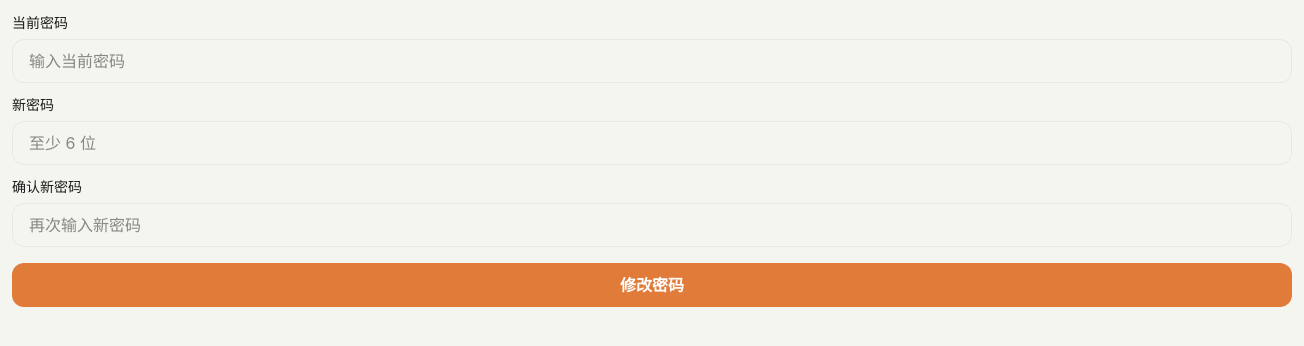
Test: ChangePasswordSection - 当前密码错误提示 › 当前密码错误时，在输入框下方显示红色提示而非 Toast
Type "old-pass" into the password field with placeholder "输入当前密码" at (652, 61), box [12, 39, 1292, 83]
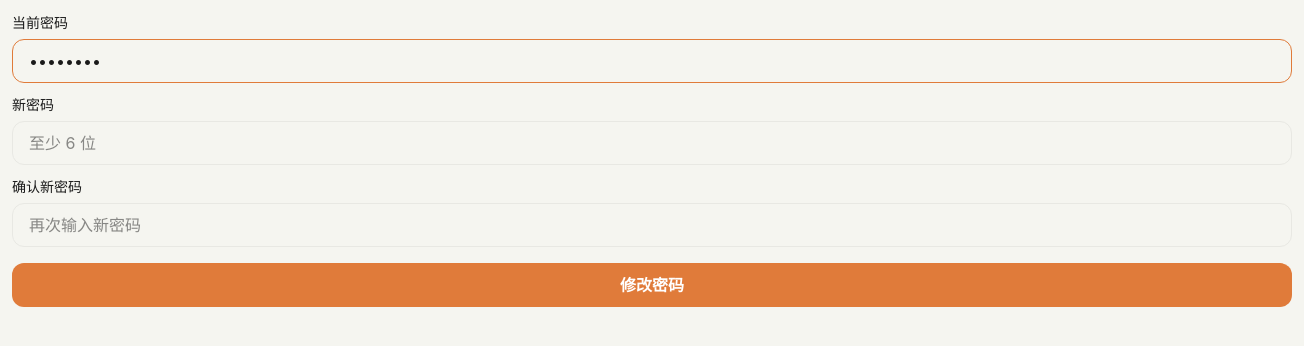
Type "new-pass-1" into the password field with placeholder "至少 6 位" at (652, 143), box [12, 121, 1292, 165]
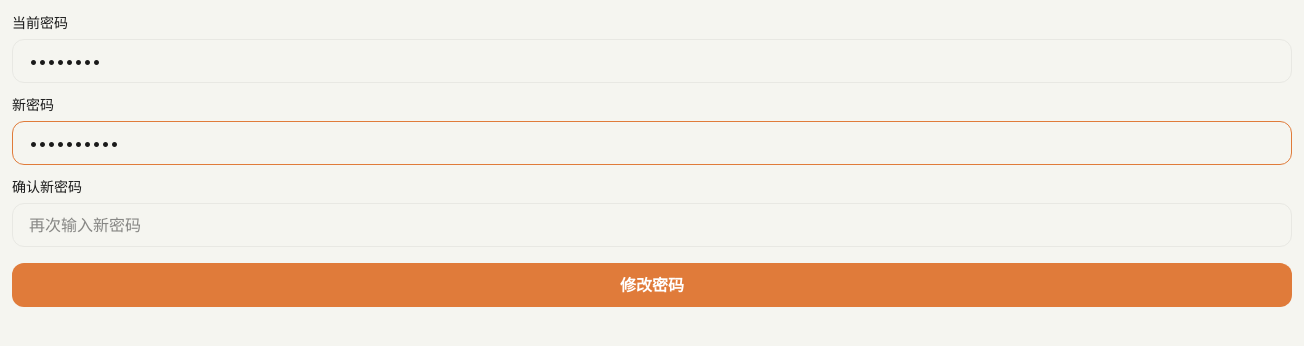
Type "new-pass-1" into the password field with placeholder "再次输入新密码" at (652, 225), box [12, 203, 1292, 247]
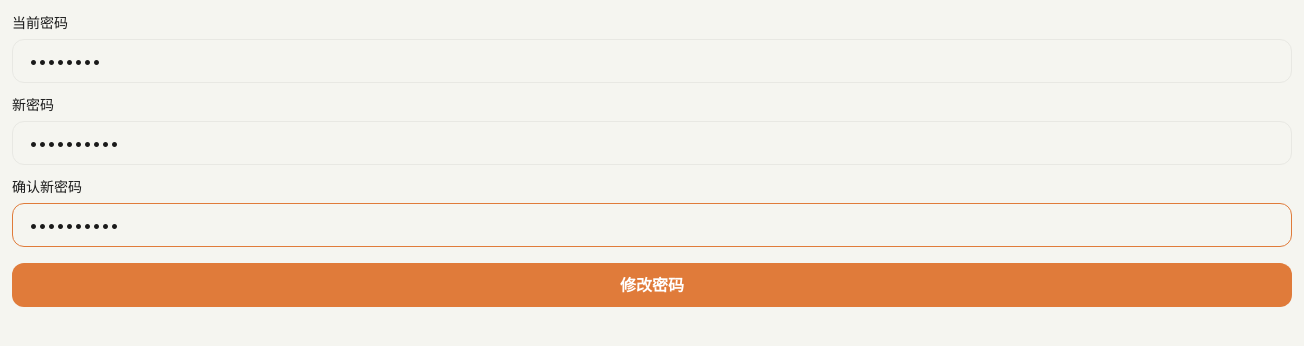
Click the button "修改密码" at (652, 285), box [12, 263, 1292, 307]
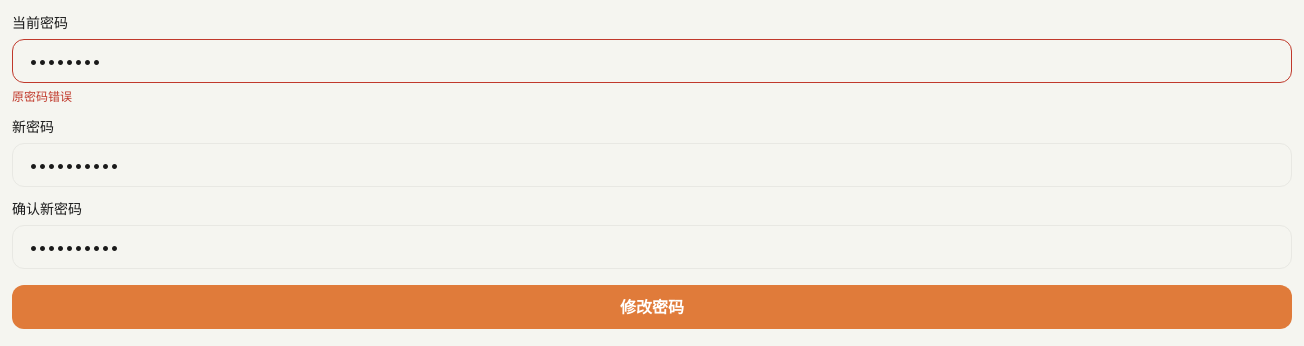
Expected: the text "原密码错误" is shown, [12, 89, 72, 104]
